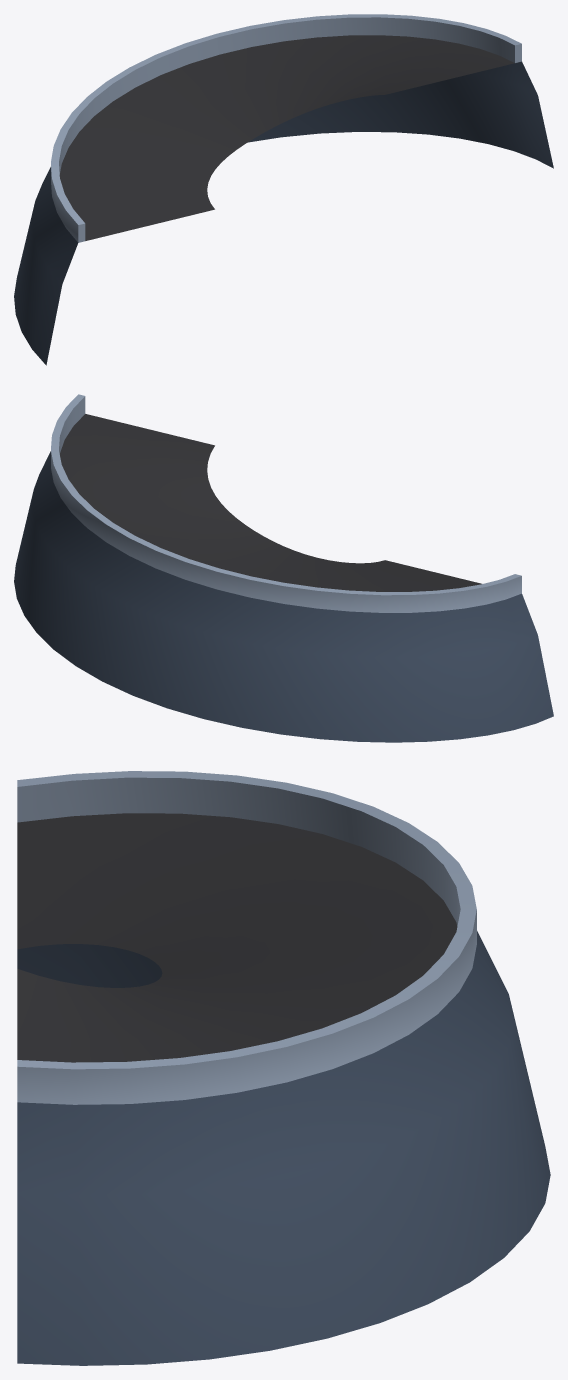
File: road_mountain_hairpin.glb
The picture shows the model from 3 angles, top to bottom: view 1: azimuth 30°, elevation 25°; view 2: azimuth 150°, elevation 25°; view 3: azimuth 270°, elevation 25°; orthographic projection. The views are drawn at different scales.
Parts seen in each view (by area): view 1: Road_Mountain_Hairpin; view 2: Road_Mountain_Hairpin; view 3: Road_Mountain_Hairpin.
Part boxes in pixels (x1,y1,x2,y2): Road_Mountain_Hairpin: (14,14,553,365); Road_Mountain_Hairpin: (14,394,553,742); Road_Mountain_Hairpin: (17,771,550,1365).
Bounding box in the file's own units: 25.4 × 9.85 × 11.56.
